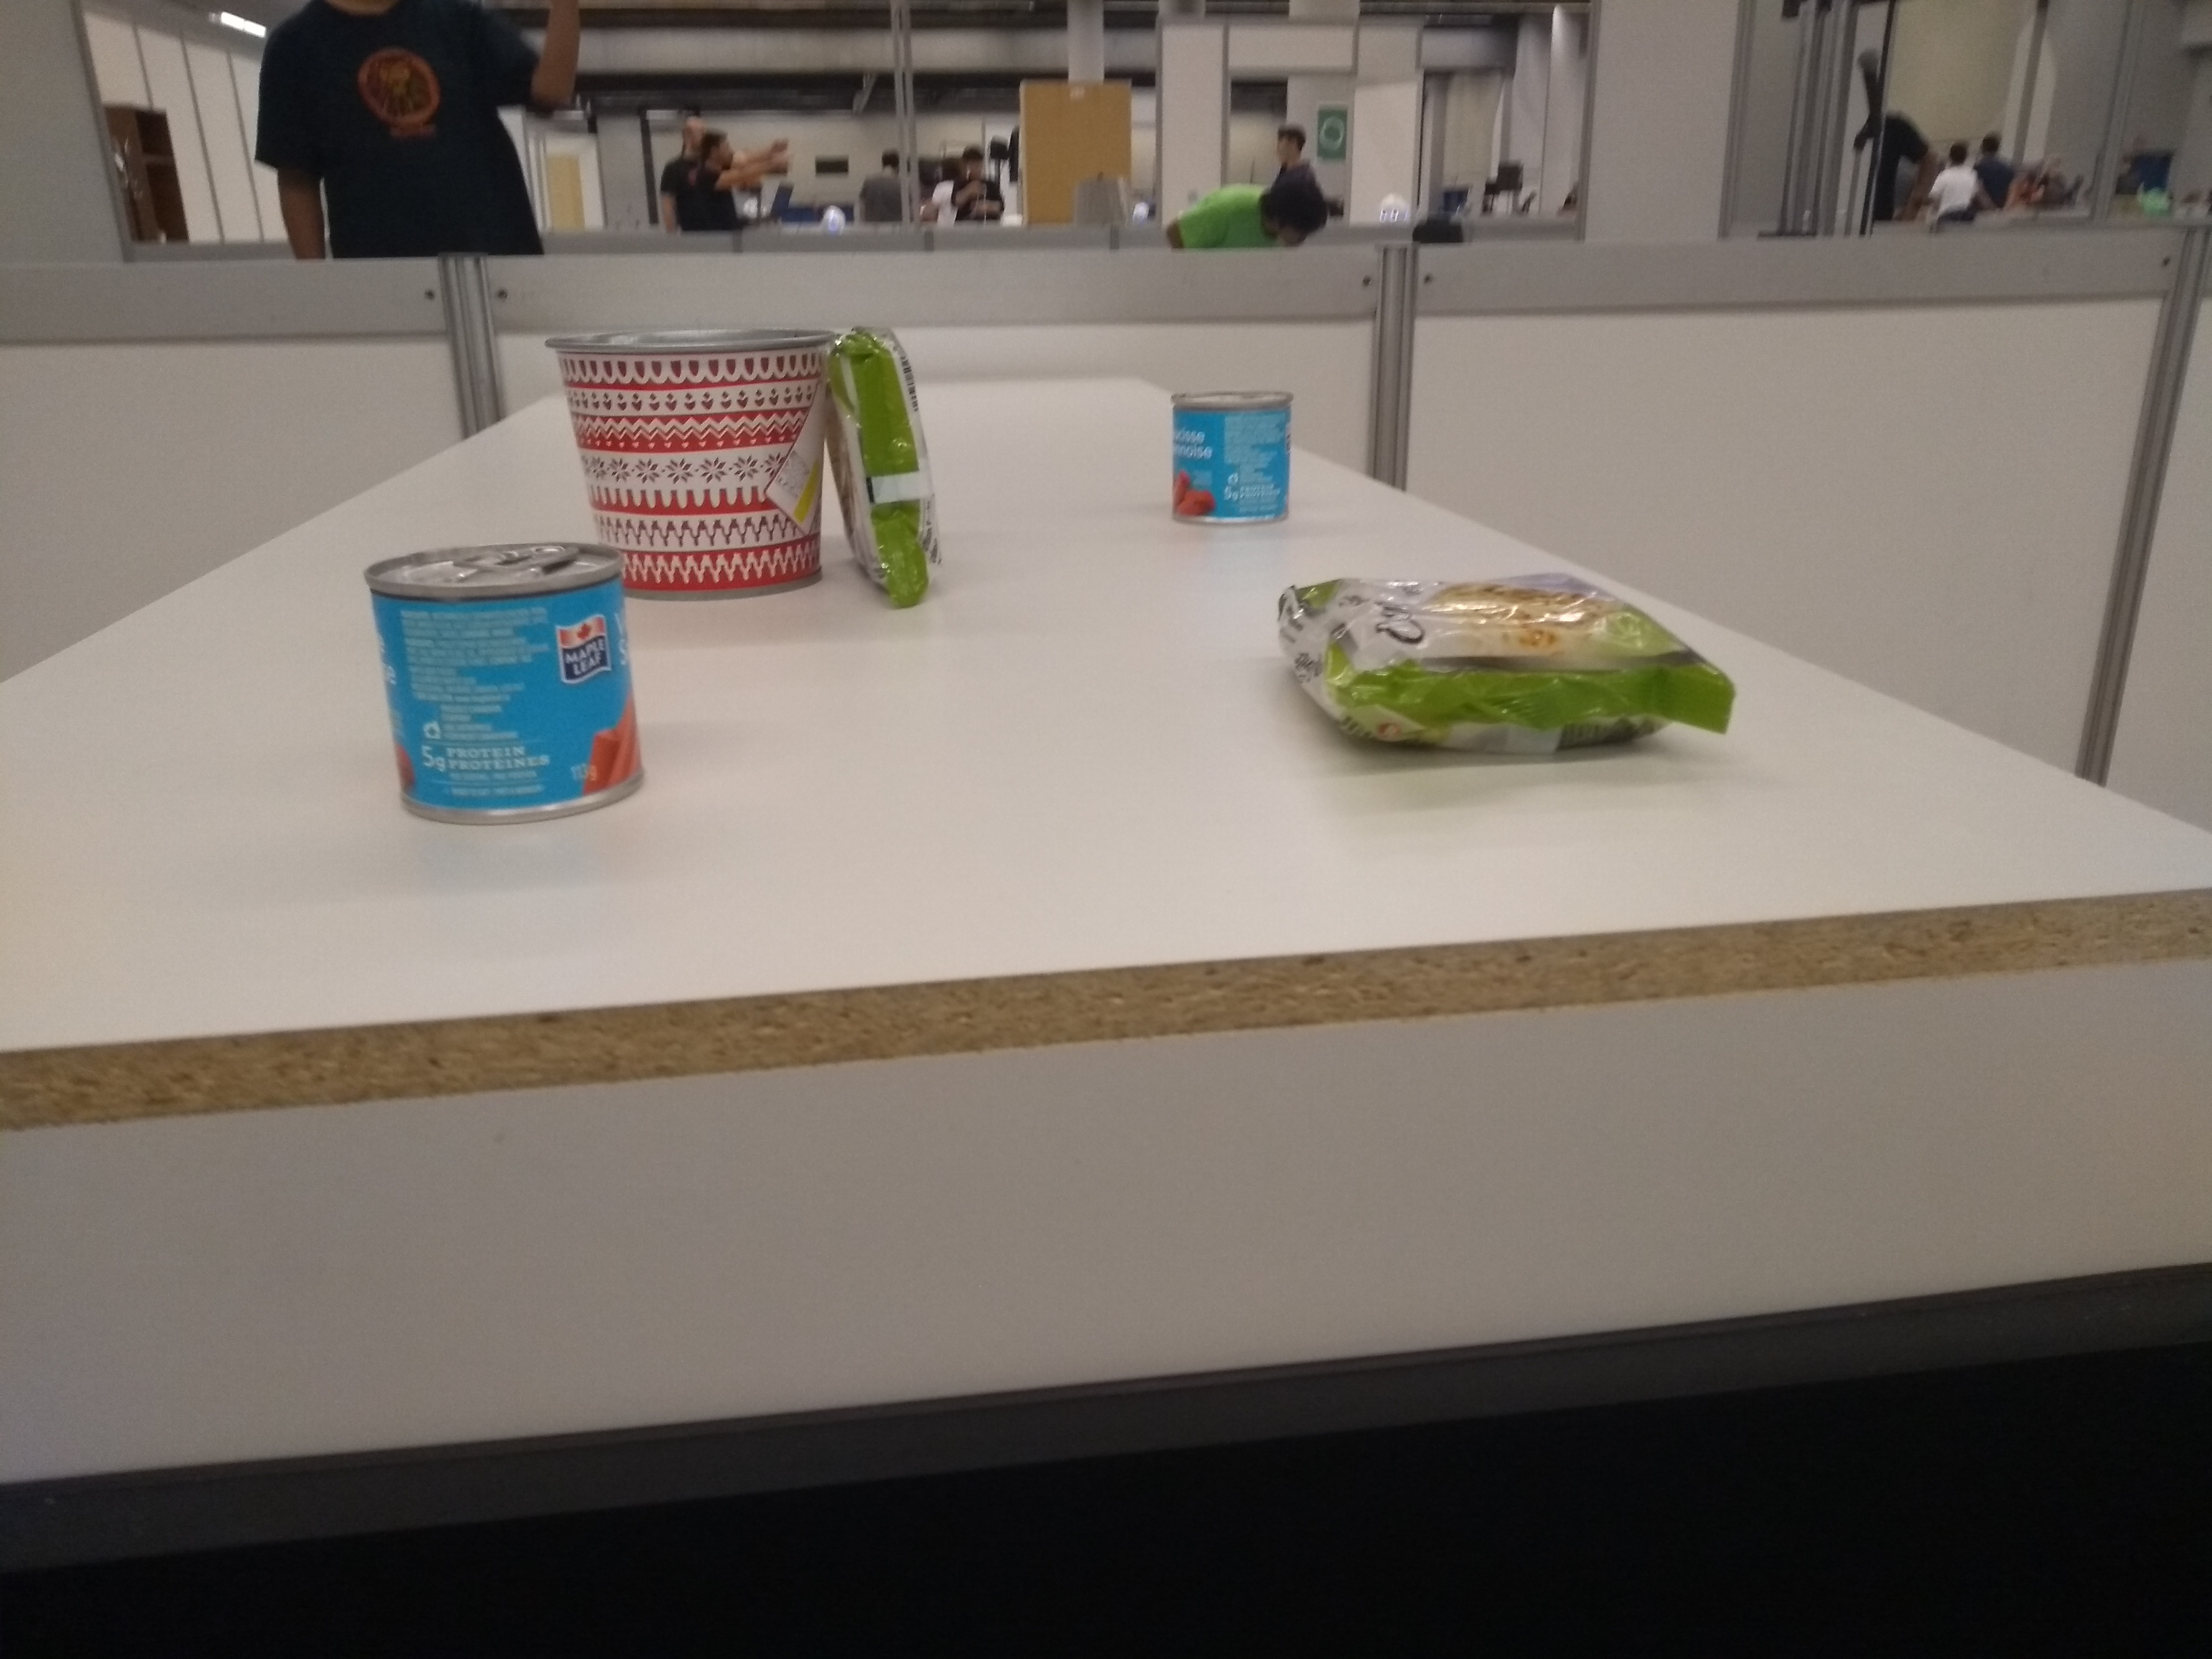noodles: (1266, 561, 1743, 782), (796, 308, 956, 622)
sausages: (354, 533, 653, 842), (1165, 383, 1299, 530)
